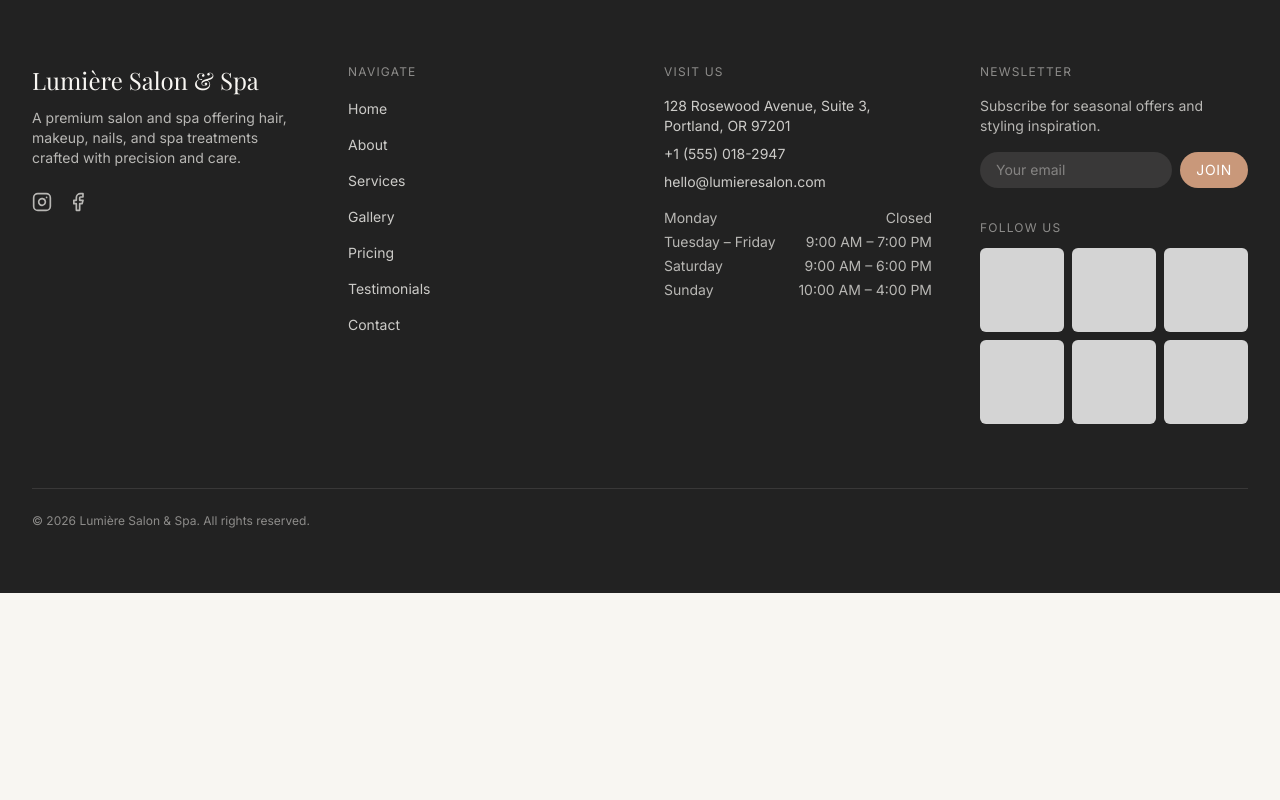
Footer › shows a success message after subscribing to the newsletter
Type "test@example.com" into the field named "Email address" at (1076, 170), box [980,152,1172,188]
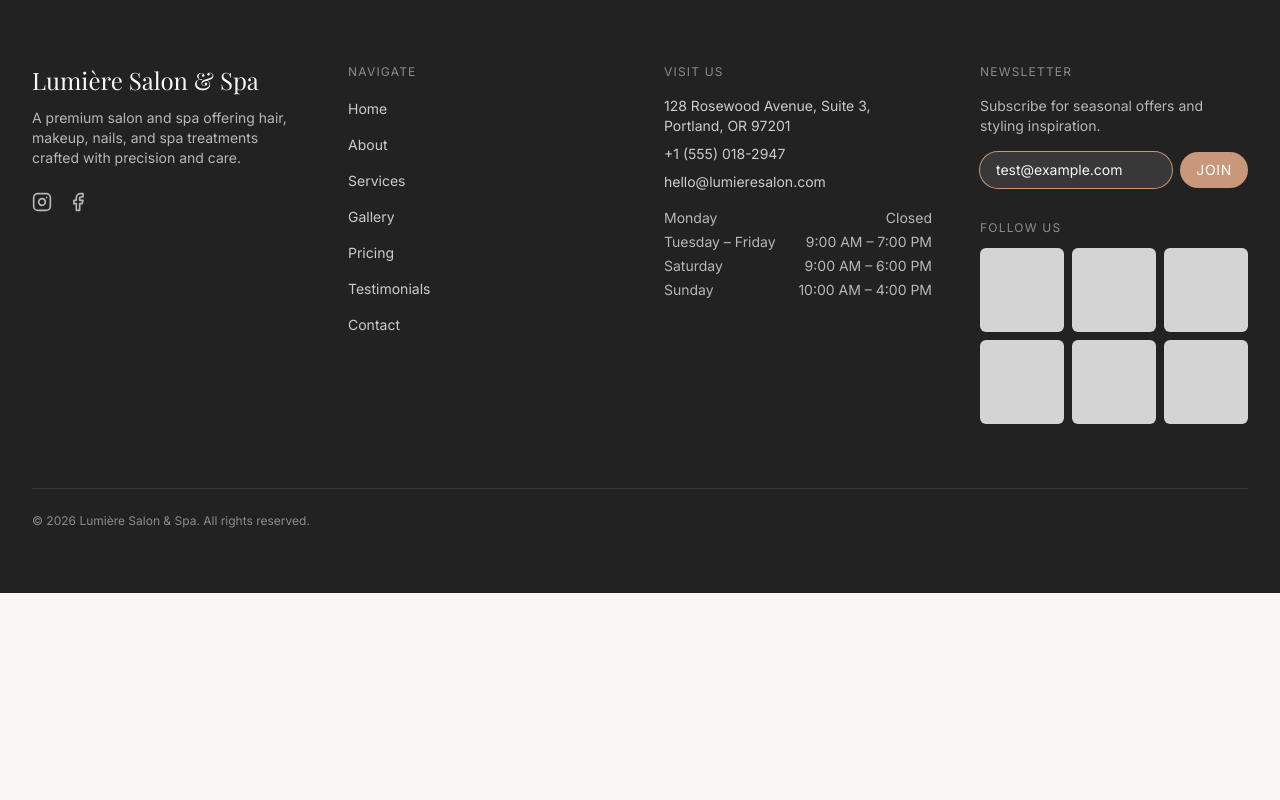
Click the button "Join" at (1214, 170), box [1180,152,1248,188]
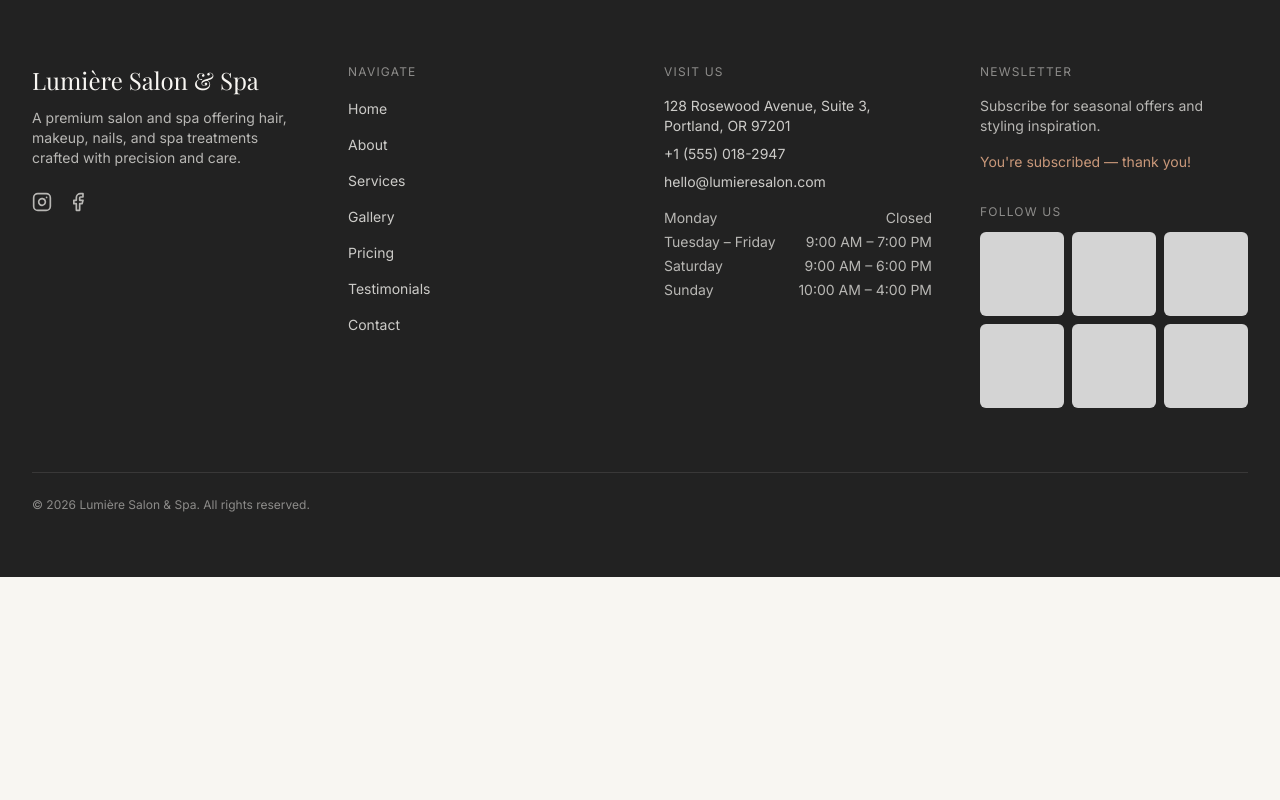
Check: the text "You're subscribed — thank you!" is shown, box [980,153,1191,170]
